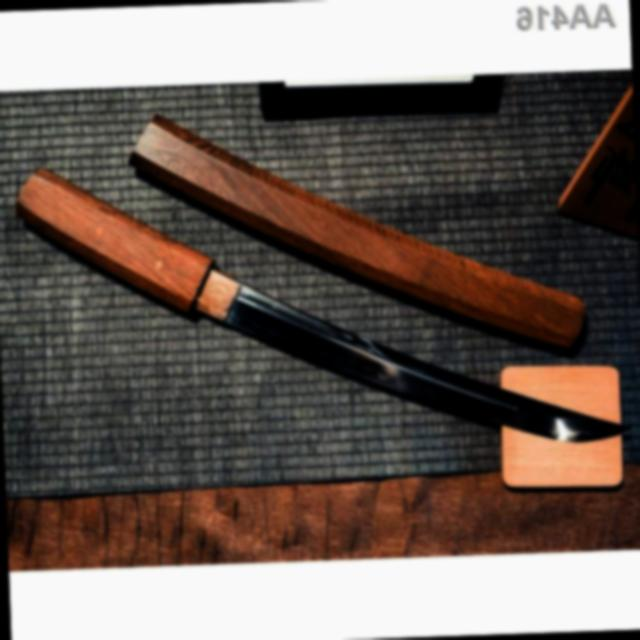short sword: (1, 92, 626, 498)
